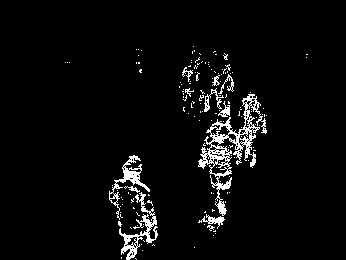person: (198, 111, 242, 234), (108, 154, 158, 260), (238, 93, 267, 169)
